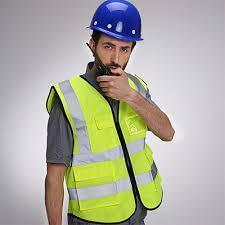helmet: (85, 0, 144, 41)
